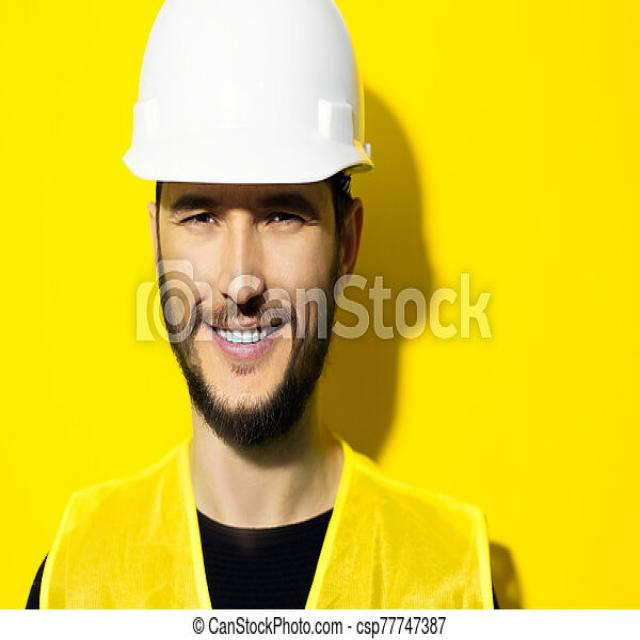Reflective-Jacket: (36, 436, 509, 606)
Safety-Helmet: (122, 6, 376, 185)
